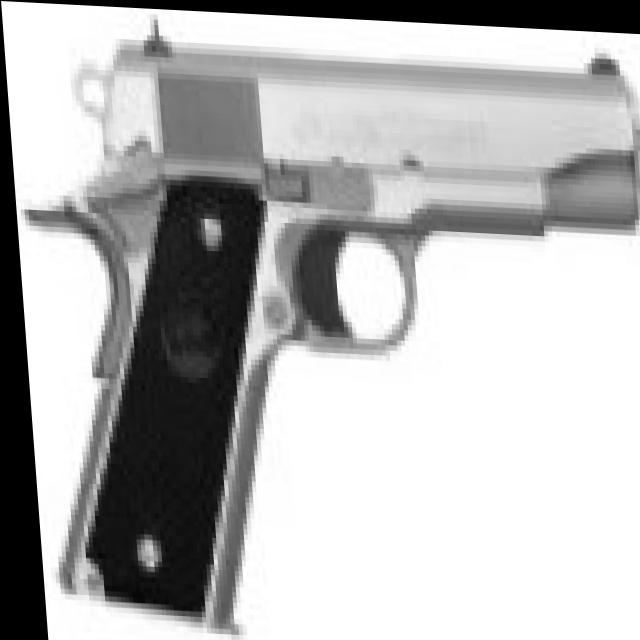handgun: (17, 11, 640, 640)
